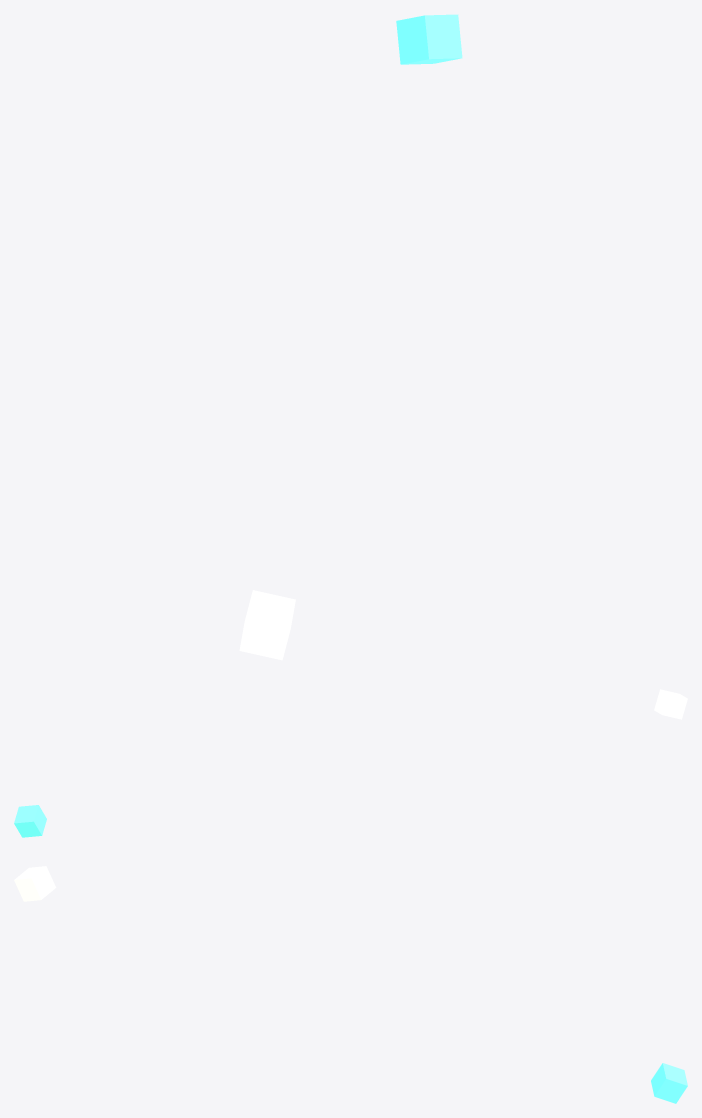
The model's file is silver_destroy.gltf.
The picture shows the model from 3 angles, top to bottom: view 1: azimuth 30°, elevation 25°; view 2: azimuth 150°, elevation 25°; view 3: azimuth 270°, elevation 25°; orthographic projection. The views are drawn at different scales.
Visible parts, largest first — view 1: particle.000, particle.030; view 2: particle.000, particle.030; view 3: particle.000, particle.030.
Boxes of the visible parts, x1,y1,x2,y2 form: particle.000: [396, 14, 462, 64]; particle.030: [239, 590, 295, 660]; particle.000: [14, 805, 46, 837]; particle.030: [654, 689, 687, 719]; particle.000: [651, 1063, 687, 1103]; particle.030: [14, 866, 56, 901].
Size of what is drawn, in the model's own units: 2.03 by 0.1553 by 2.69.
